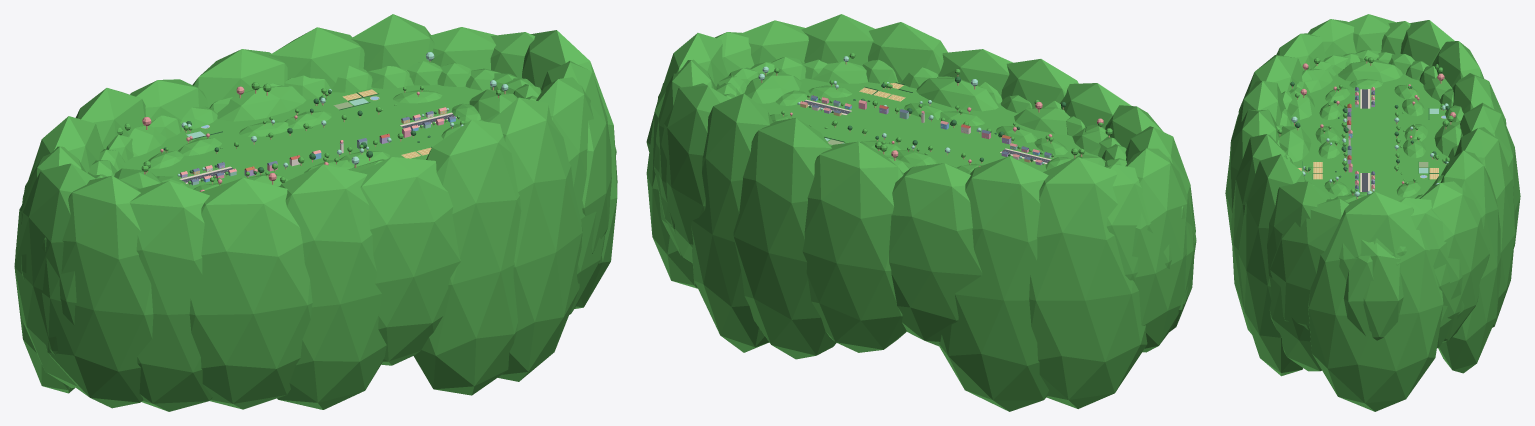
The model's file is CleanACat_Area_BackdropWide.fbx.
3 renders of one model, left to right at view 1: azimuth 30°, elevation 25°; view 2: azimuth 150°, elevation 25°; view 3: azimuth 270°, elevation 25°, orthographic. The views are drawn at different scales.
Parts seen in each view (by area): view 1: CleanACat_Area_BackdropWide_Peaks, CleanACat_Area_BackdropWide_Ground, CleanACat_Area_BackdropWide_HillsFar, CleanACat_Area_BackdropWide, CleanACat_Area_BackdropWide_Hills; view 2: CleanACat_Area_BackdropWide_Peaks, CleanACat_Area_BackdropWide_HillsFar, CleanACat_Area_BackdropWide_Ground, CleanACat_Area_BackdropWide, CleanACat_Area_BackdropWide_Hills; view 3: CleanACat_Area_BackdropWide_Peaks, CleanACat_Area_BackdropWide_Ground, CleanACat_Area_BackdropWide_HillsFar, CleanACat_Area_BackdropWide, CleanACat_Area_BackdropWide_Hills.
Part boxes in pixels (<box>): CleanACat_Area_BackdropWide_Peaks: <box>14,14,617,411</box>; CleanACat_Area_BackdropWide_Ground: <box>123,84,484,189</box>; CleanACat_Area_BackdropWide_HillsFar: <box>87,61,541,188</box>; CleanACat_Area_BackdropWide: <box>117,52,508,191</box>; CleanACat_Area_BackdropWide_Hills: <box>148,89,480,191</box>; CleanACat_Area_BackdropWide_Peaks: <box>646,14,1196,411</box>; CleanACat_Area_BackdropWide_HillsFar: <box>716,57,1126,173</box>; CleanACat_Area_BackdropWide_Ground: <box>758,78,1099,172</box>; CleanACat_Area_BackdropWide: <box>758,53,1112,166</box>; CleanACat_Area_BackdropWide_Hills: <box>770,85,1071,173</box>; CleanACat_Area_BackdropWide_Peaks: <box>1225,14,1520,411</box>; CleanACat_Area_BackdropWide_Ground: <box>1290,73,1449,201</box>; CleanACat_Area_BackdropWide_HillsFar: <box>1276,50,1463,202</box>; CleanACat_Area_BackdropWide: <box>1277,56,1455,198</box>; CleanACat_Area_BackdropWide_Hills: <box>1315,78,1427,197</box>.
Bounding box in the file's own units: 1757 × 839 × 1006.
Materials: 1 (1 with a texture image).
